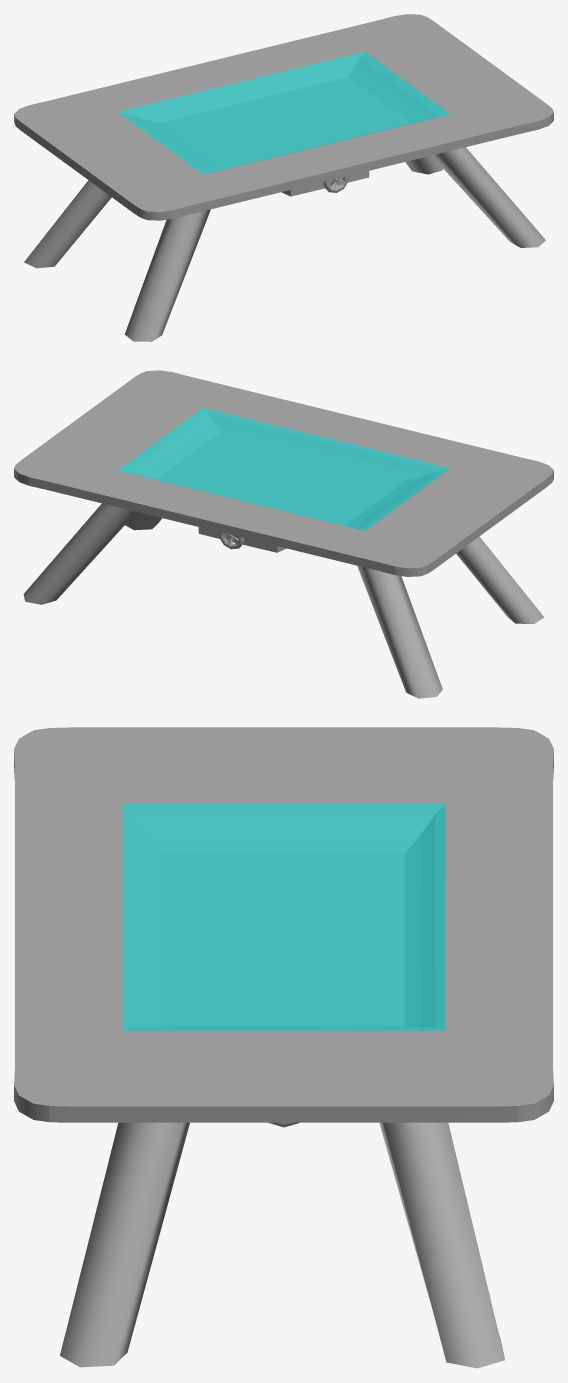
Rendered from SM_Table.fbx.
3 renders of one model, top to bottom at view 1: azimuth 30°, elevation 25°; view 2: azimuth 150°, elevation 25°; view 3: azimuth 270°, elevation 25°, orthographic. The views are drawn at different scales.
Visible parts, largest first — view 1: SM_Table2; view 2: SM_Table2; view 3: SM_Table2.
Part boxes in pixels (bbox=[...]): SM_Table2: bbox=[14, 14, 553, 341]; SM_Table2: bbox=[14, 370, 553, 698]; SM_Table2: bbox=[14, 727, 553, 1368].
Size of the model in its own units: 252 by 151 by 79.87.
